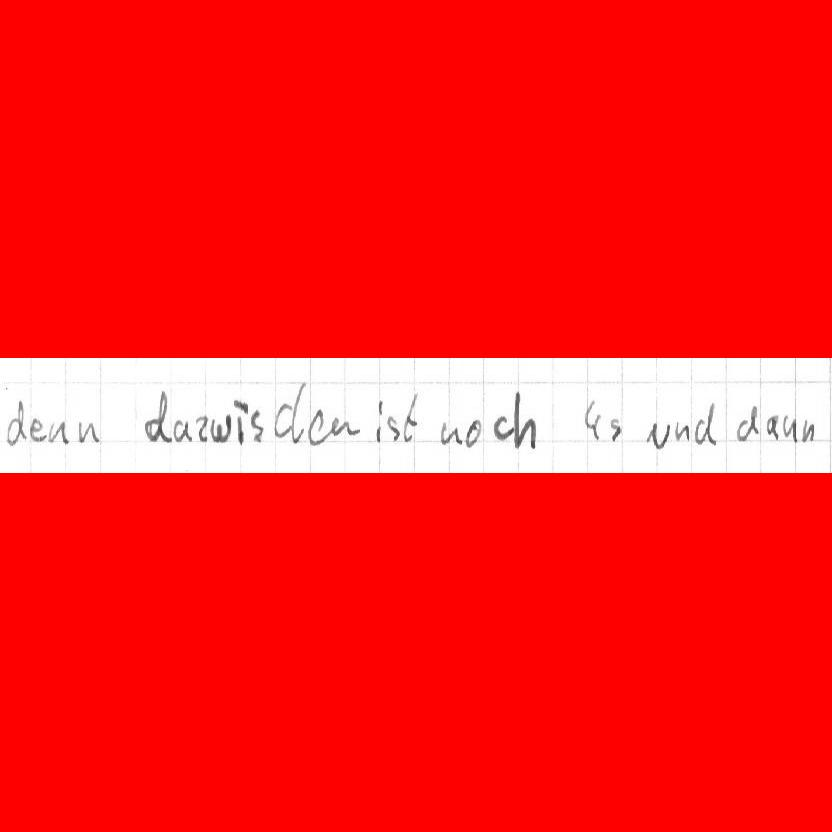Char: (273, 380, 306, 444), (142, 388, 174, 443), (511, 388, 534, 448), (5, 397, 29, 449), (693, 401, 718, 447), (735, 403, 760, 445), (402, 392, 421, 443), (582, 397, 604, 441), (642, 420, 672, 452), (231, 398, 250, 448), (327, 415, 363, 441), (306, 407, 328, 445), (438, 419, 464, 448), (76, 416, 102, 444), (210, 411, 232, 443), (490, 412, 512, 444), (48, 417, 71, 446), (463, 416, 483, 449), (384, 412, 403, 445), (373, 396, 385, 446), (250, 407, 266, 444), (172, 418, 194, 443), (782, 414, 799, 444), (194, 412, 210, 442), (764, 411, 780, 441), (30, 415, 47, 443), (800, 417, 816, 443), (674, 419, 690, 442), (607, 415, 620, 442)
